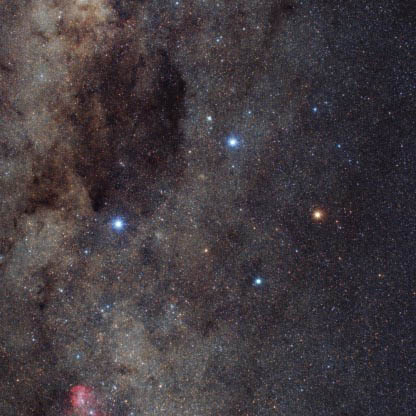Southern Cross: (101, 207, 136, 241), (244, 269, 271, 293), (307, 199, 331, 226), (225, 130, 240, 150)
